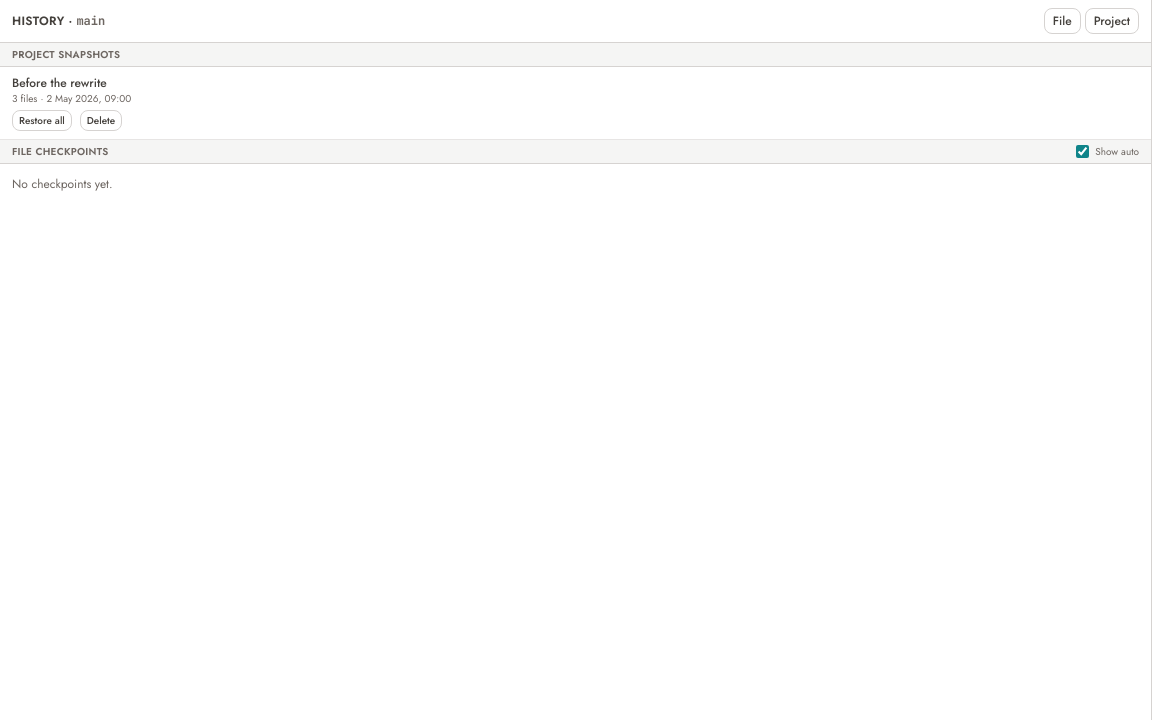
HistoryPanel project snapshot actions › cancelling the delete confirm makes no request
This screenshot has width=1152, height=720.
What coordinates should you click on to do the following:
click the button with test id "project-delete-pc1"
I would click on:
 (101, 120)
Its box is [80,110,122,131].
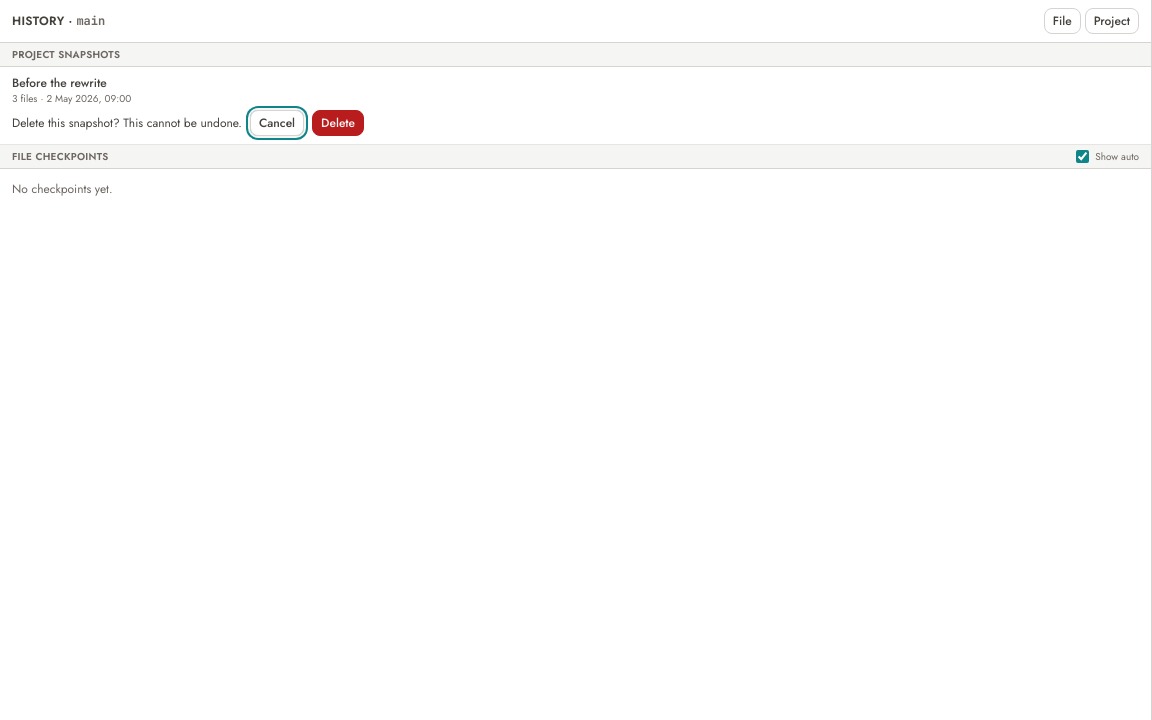
What coordinates should you click on to do the following:
click the button with test id "project-delete-pc1-cancel"
I would click on:
 (277, 123)
Its box is [250,110,304,136].
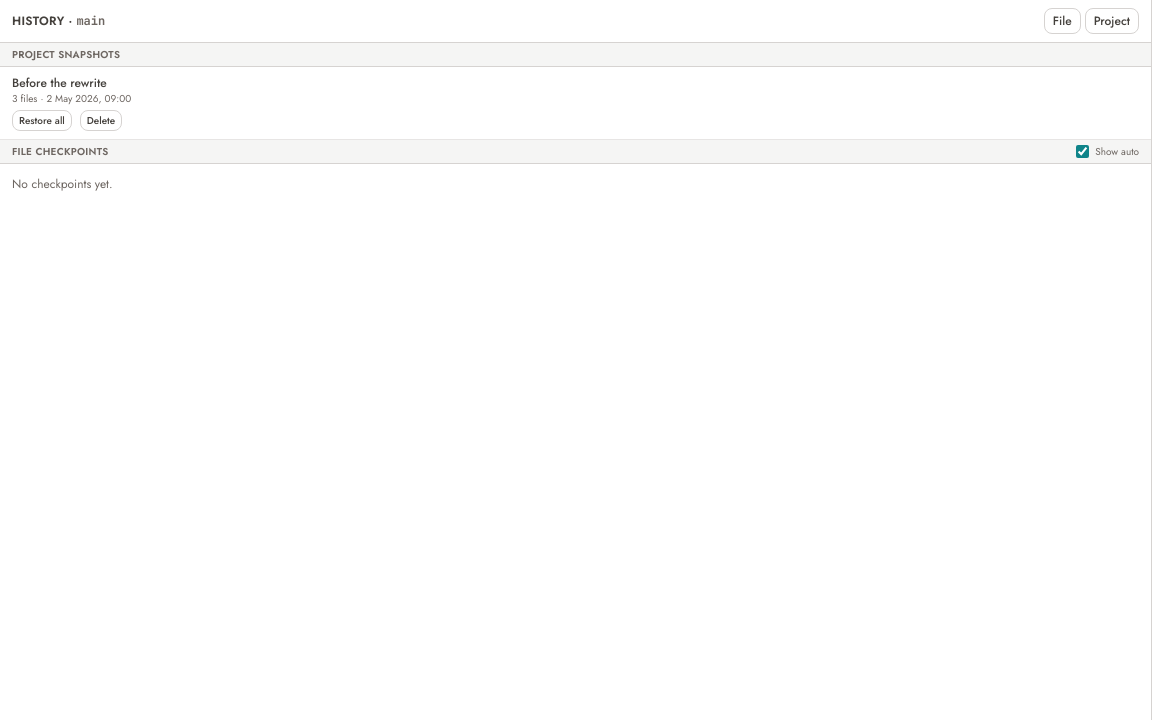
Expected: the button with test id "project-delete-pc1" is shown, [80,110,122,131]
Now the button with test id "project-delete-pc1-confirm" is gone
